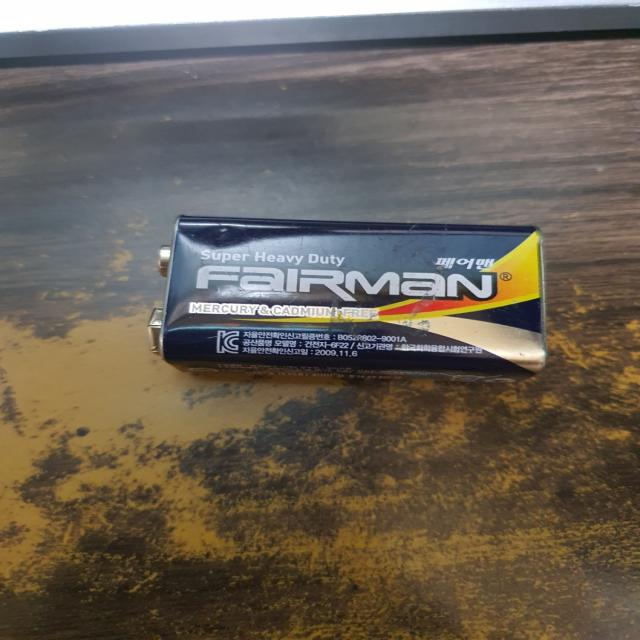battery-etc-etc: (144, 207, 563, 385)
